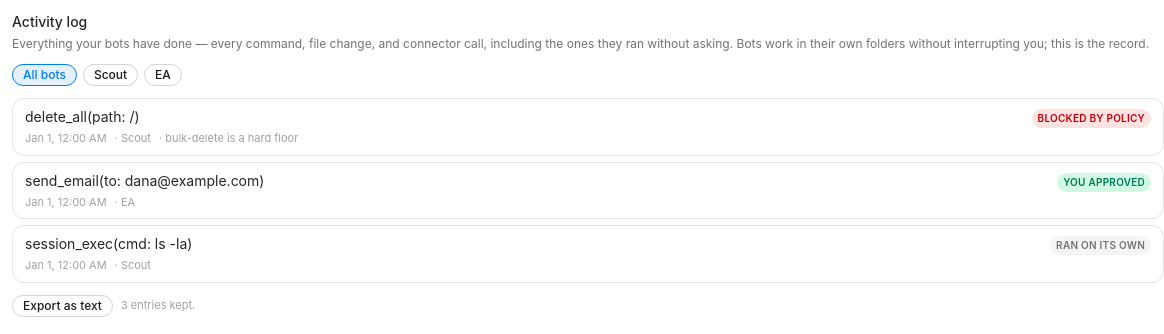
Test: ActivityLog (security spec, 'Comprehensive audit log') › filters to one bot in a click
The width and height of the screenshot is (1164, 334).
Step 1. Click the button "EA" → point(163, 75), box x1=144 y1=64 x2=182 y2=86
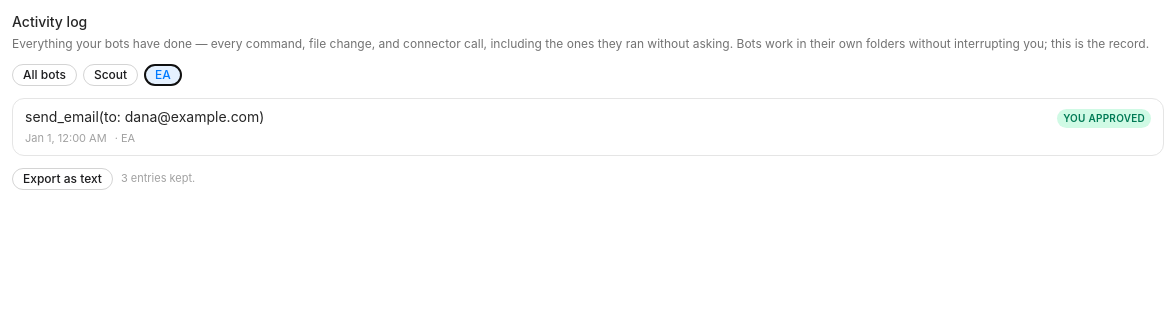
expect the list item with test id "activity-row" shows "send_email": met, box x1=25 y1=108 x2=264 y2=125
expect the number of list items with test id "activity-row" is 1: met, box x1=12 y1=98 x2=1163 y2=156
Step 2. Click the button "All bots" → point(44, 75), box x1=12 y1=64 x2=77 y2=86
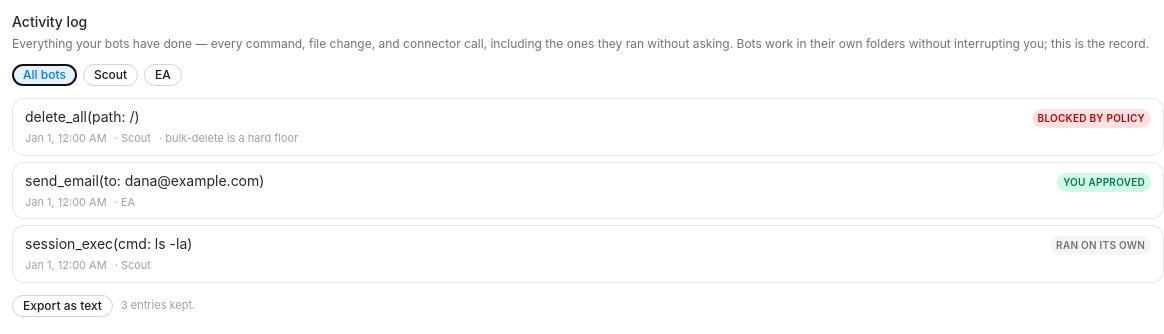
expect the number of list items with test id "activity-row" is 3: met, box x1=12 y1=98 x2=1163 y2=156; x1=12 y1=162 x2=1163 y2=219; x1=12 y1=225 x2=1163 y2=282
